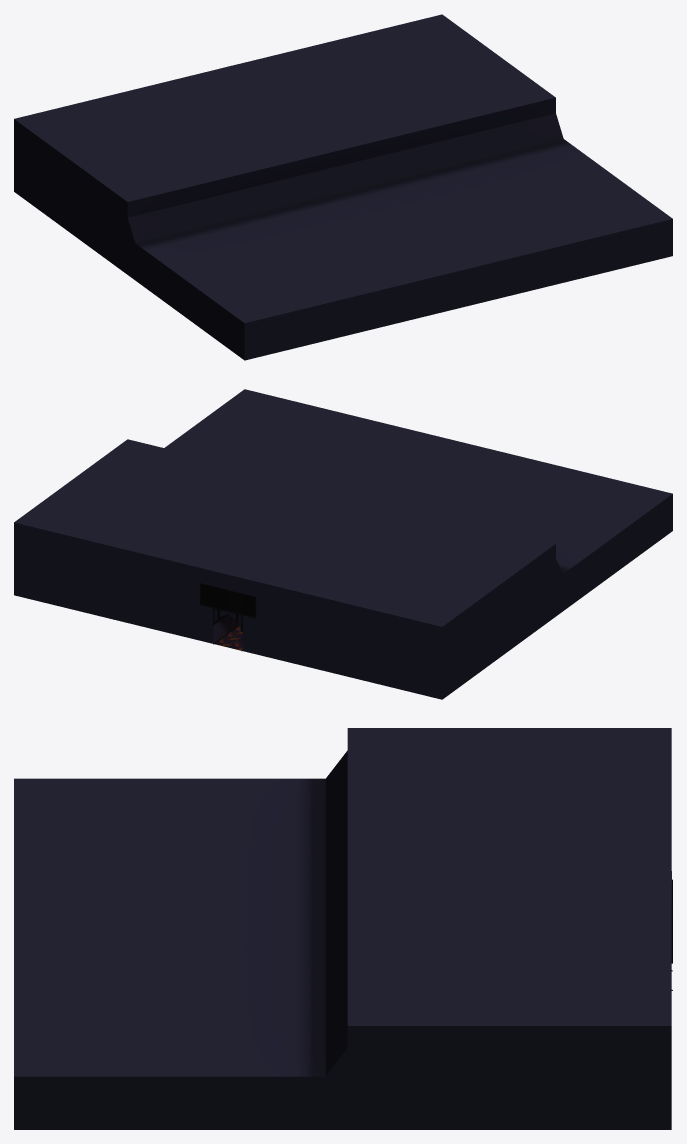
File: ExteriorBuilding.dae
3 renders of one model, top to bottom at view 1: azimuth 30°, elevation 25°; view 2: azimuth 150°, elevation 25°; view 3: azimuth 270°, elevation 25°, orthographic. The views are drawn at different scales.
Visible parts, largest first — view 1: BowlingRoomWalls_002; view 2: BowlingRoomWalls_002; view 3: BowlingRoomWalls_002.
Boxes of the visible parts, bbox=[...] form: BowlingRoomWalls_002: bbox=[14, 14, 672, 360]; BowlingRoomWalls_002: bbox=[14, 389, 672, 699]; BowlingRoomWalls_002: bbox=[14, 728, 671, 1129].
Bounding box in the file's own units: 55.06 × 51.47 × 8.95.
Materials: 3 (2 with a texture image).
